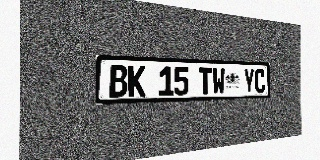1: (158, 66, 174, 96)
5: (174, 66, 189, 95)
B: (109, 64, 127, 97)
C: (255, 69, 265, 93)
K: (128, 65, 145, 97)
T: (199, 67, 212, 95)
W: (212, 67, 225, 94)
Y: (244, 68, 254, 93)
